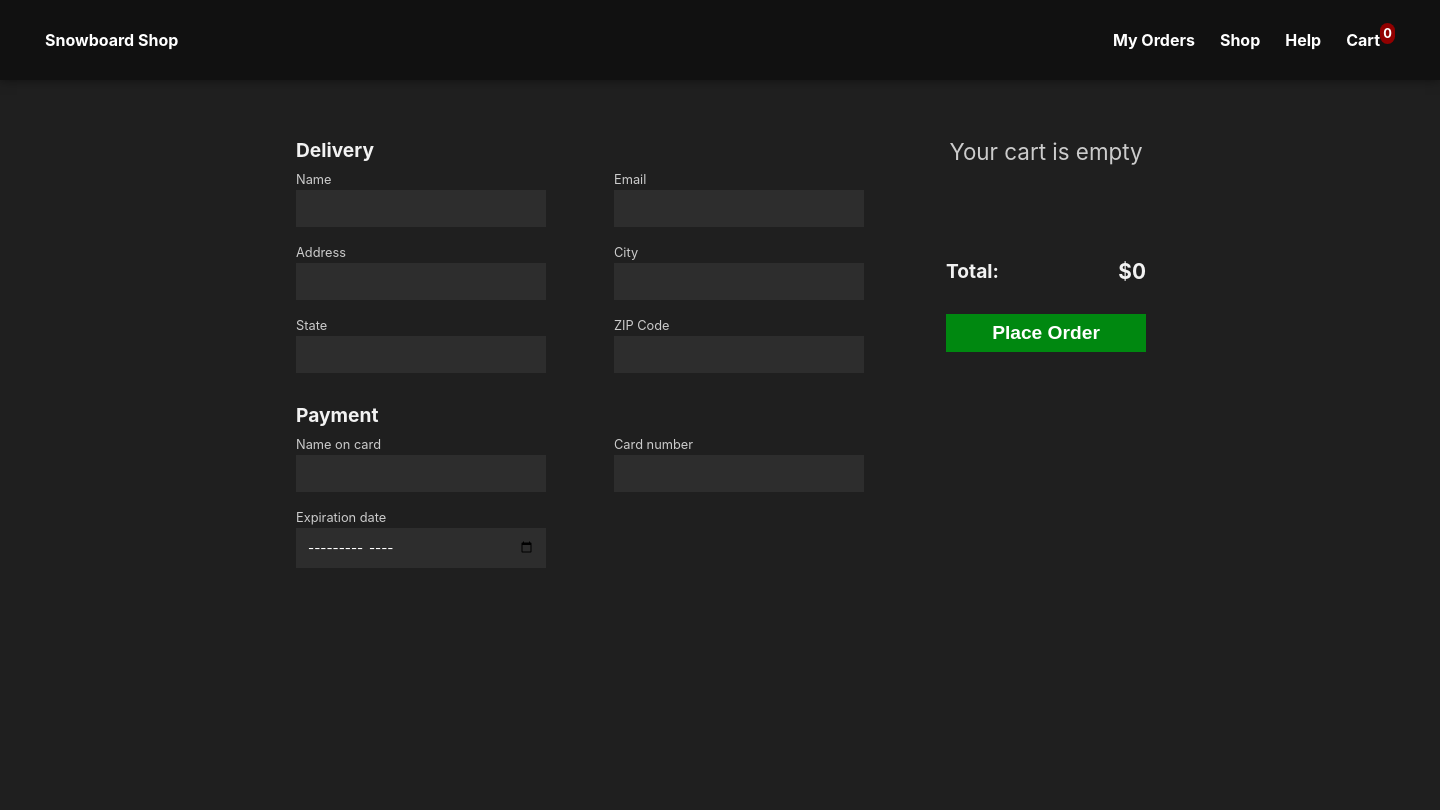
App › routes to confirmation page when order is placed
The image size is (1440, 810).
Click the button "Place Order" at (1046, 333), box [946,314,1146,352]
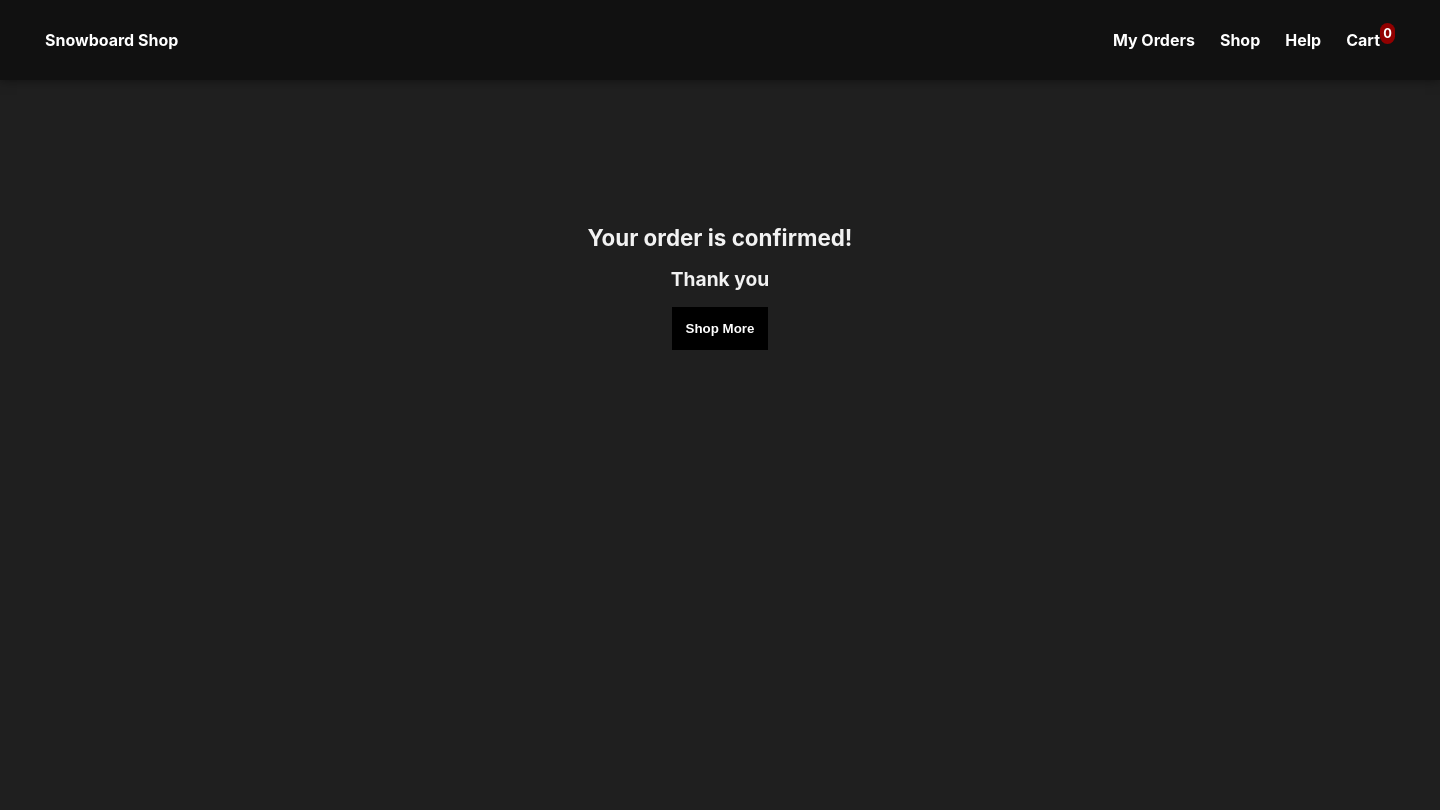
Now the heading "Your order is confirmed!" is shown, box [588,224,852,251]
